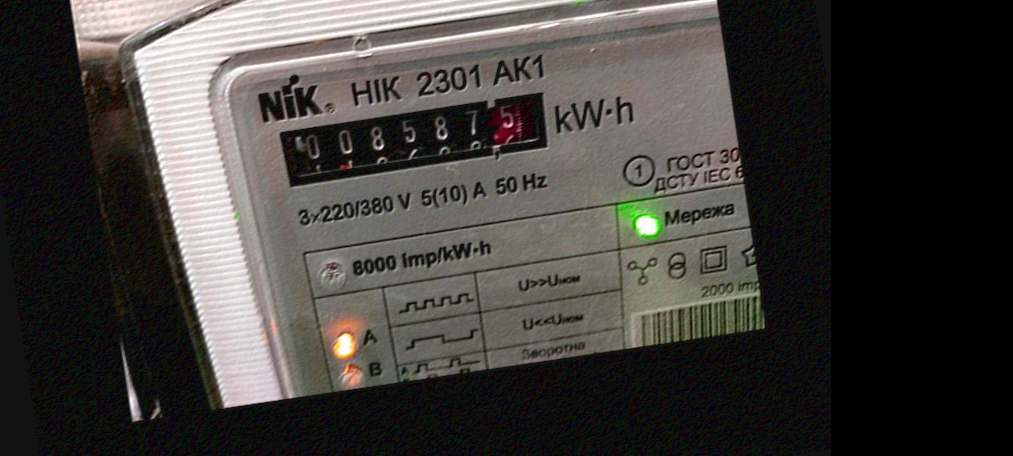0: (303, 131, 324, 162), (336, 127, 357, 157)
5: (498, 102, 519, 133), (400, 117, 420, 147)
7: (463, 106, 484, 139)
8: (431, 112, 452, 144), (368, 123, 388, 154)
screen: (260, 75, 571, 202)
